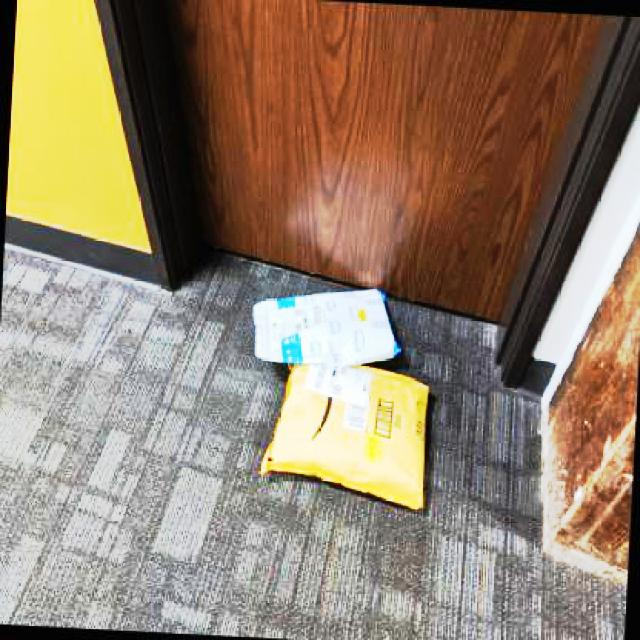Box: (253, 344, 439, 524), (251, 274, 406, 378)
